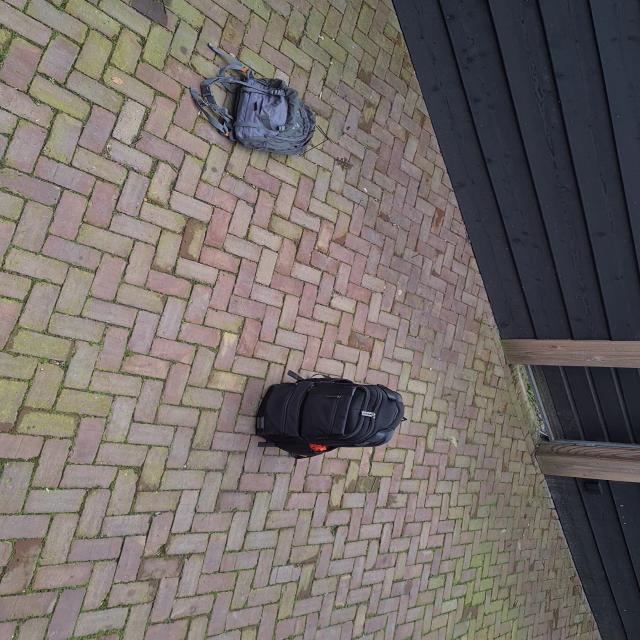backpack: (248, 369, 412, 458), (187, 66, 324, 158)
